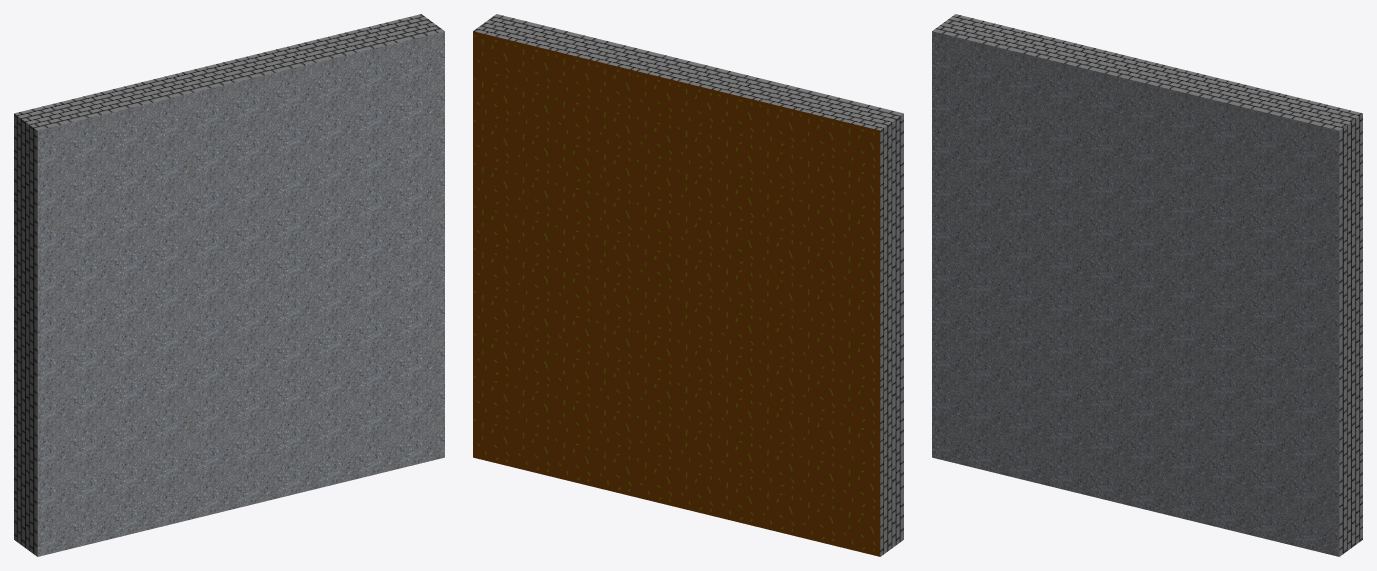
The model's file is vazio.obj.
3 renders of one model, left to right at view 1: azimuth 30°, elevation 25°; view 2: azimuth 150°, elevation 25°; view 3: azimuth 330°, elevation 25°, orthographic.
Bounding box in the file's own units: 10 × 10 × 1.
